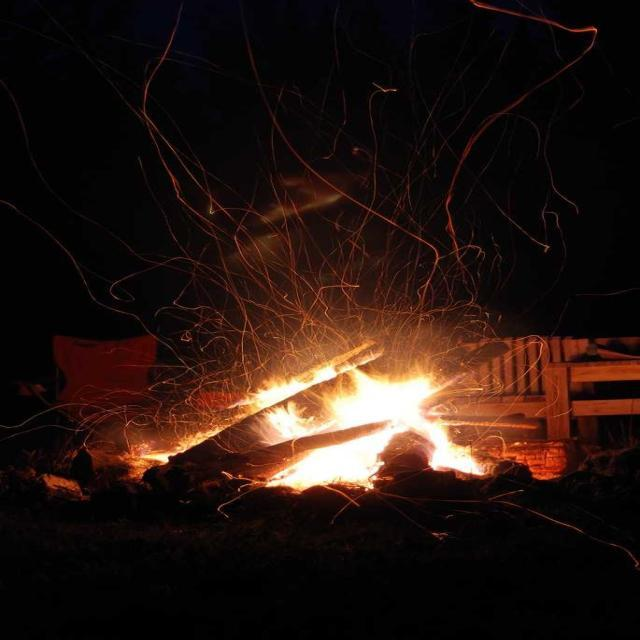Fire: (351, 380, 442, 410), (321, 442, 374, 484)
